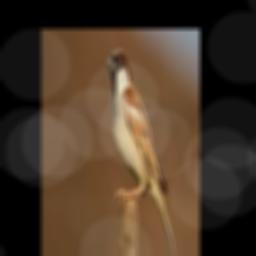Sparrow: (106, 49, 176, 256)
